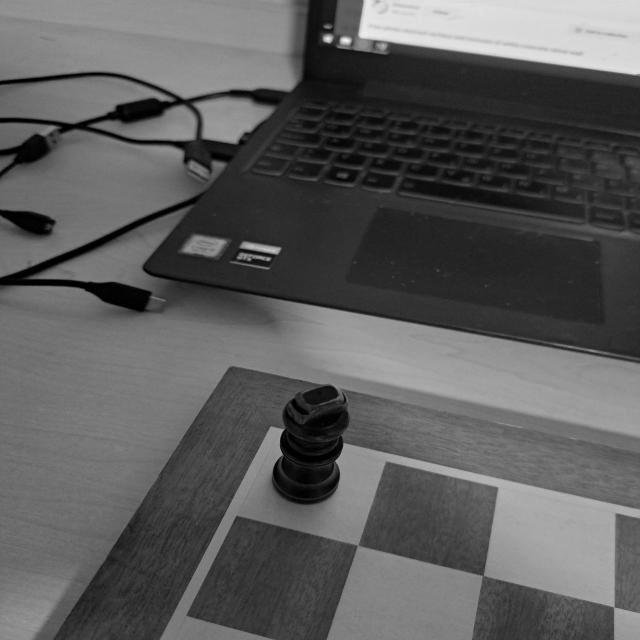chess-table-corners: (223, 406, 334, 467)
